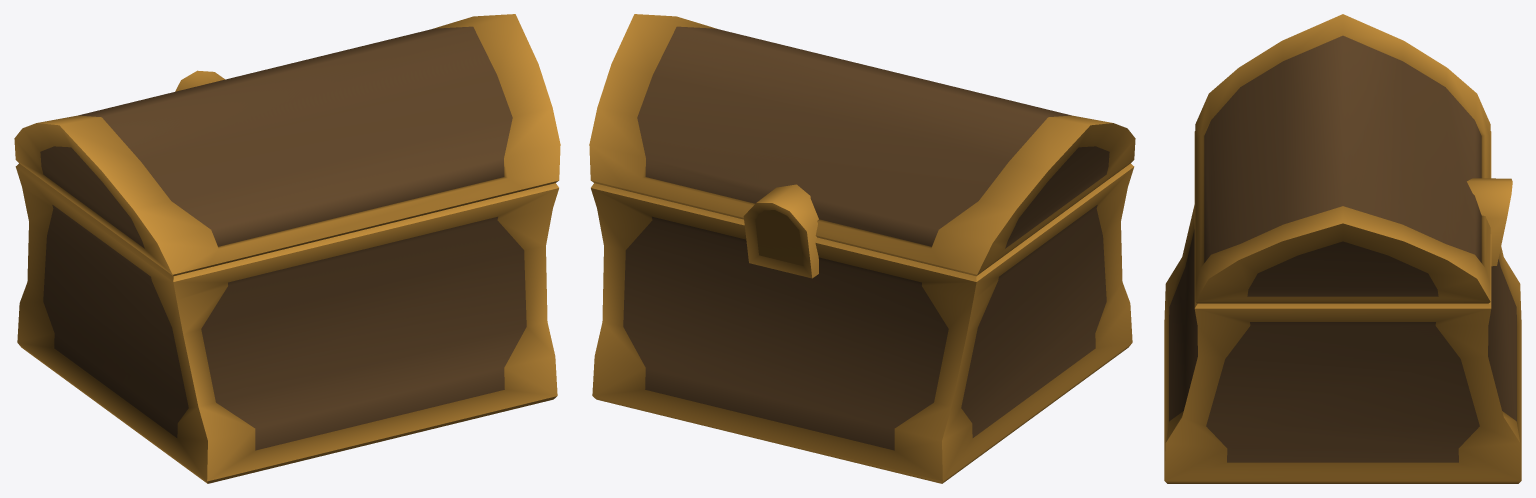
Rendered from obj_chest_close_LOW.FBX.
3 views of the same model, side by side, from view 1: azimuth 30°, elevation 25°; view 2: azimuth 150°, elevation 25°; view 3: azimuth 270°, elevation 25° (orthographic). The views are drawn at different scales.
Visible parts, largest first — view 1: obj_chest_close_LOW; view 2: obj_chest_close_LOW; view 3: obj_chest_close_LOW.
Boxes of the visible parts, <box> form: obj_chest_close_LOW: <box>14,14,560,483</box>; obj_chest_close_LOW: <box>589,14,1135,483</box>; obj_chest_close_LOW: <box>1164,14,1521,483</box>.
Bounding box in the file's own units: 2.35 × 1.49 × 1.69.
